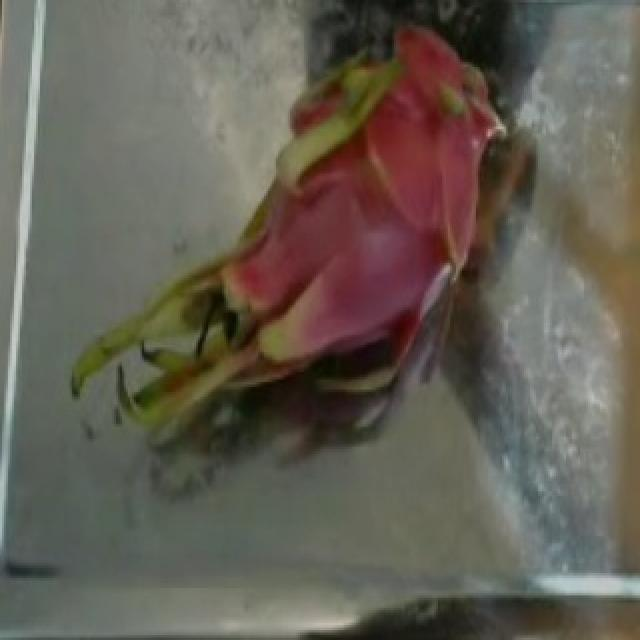fruit: (98, 0, 514, 439)
